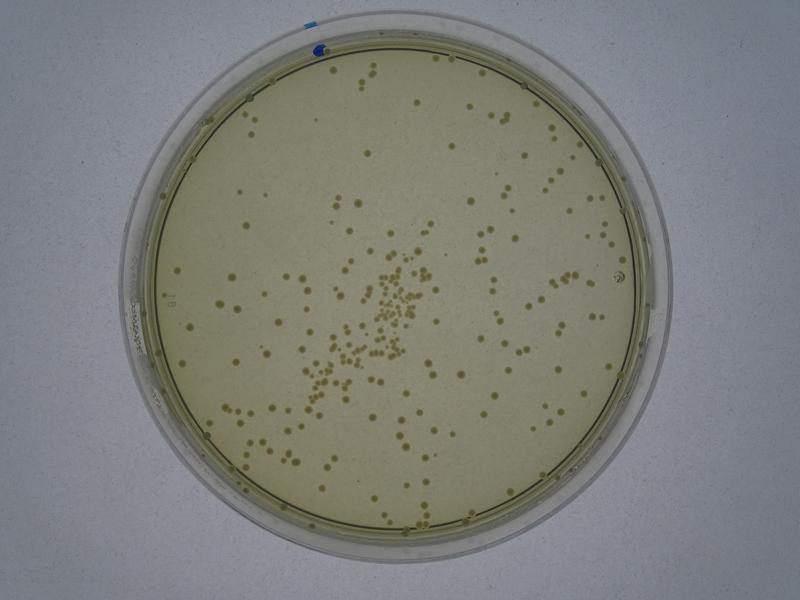colony: (517, 148, 530, 163), (212, 297, 226, 310), (228, 355, 243, 367), (361, 149, 375, 161), (577, 386, 589, 400), (327, 64, 340, 76), (240, 221, 254, 232), (183, 321, 198, 331), (366, 413, 378, 425), (464, 195, 477, 206), (172, 263, 183, 276), (343, 225, 354, 238), (454, 369, 467, 380), (474, 333, 486, 344), (551, 363, 562, 375), (411, 95, 422, 106), (353, 197, 363, 209), (478, 409, 490, 419), (448, 139, 457, 152), (280, 272, 291, 282), (510, 232, 520, 243), (233, 304, 243, 315), (489, 390, 500, 400), (462, 101, 474, 110), (503, 364, 513, 374), (227, 273, 238, 282), (430, 286, 441, 295), (387, 228, 396, 238), (430, 317, 441, 325)
